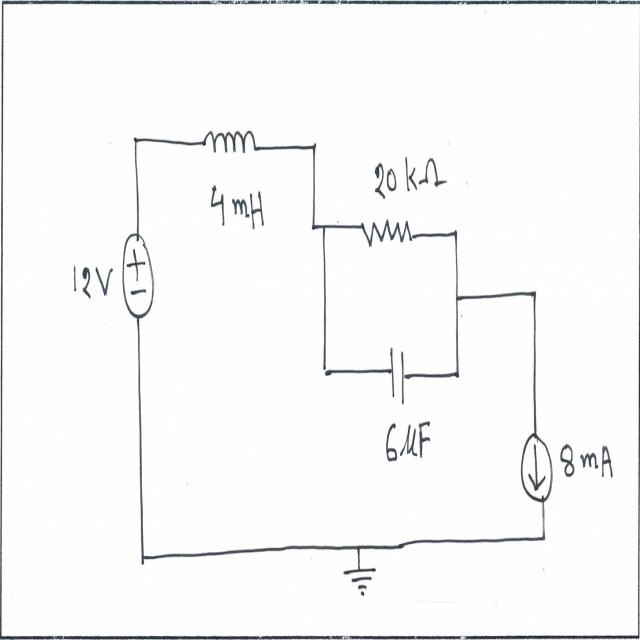capacitor: (388, 338, 407, 412)
current_source: (516, 426, 558, 503)
ground: (341, 562, 382, 602)
inductor: (202, 112, 260, 173)
resistor: (355, 205, 415, 256)
voltage_source: (119, 222, 157, 331)
